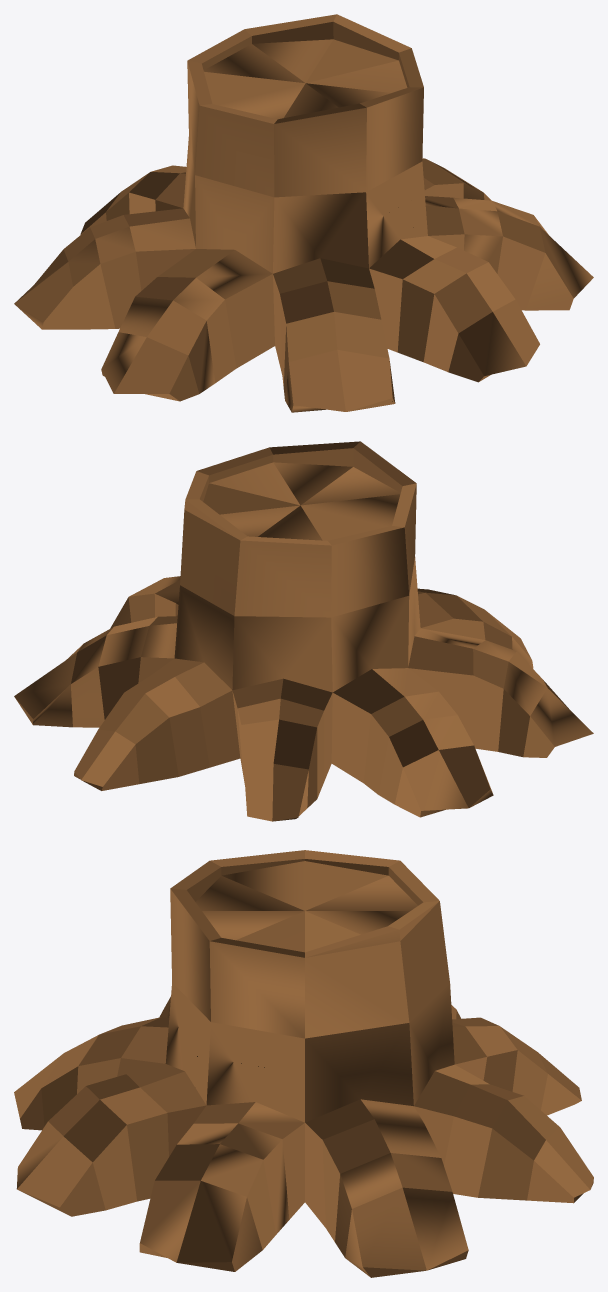
The model's file is Stumpf.fbx.
3 views of the same model, one above another, from view 1: azimuth 30°, elevation 25°; view 2: azimuth 150°, elevation 25°; view 3: azimuth 270°, elevation 25° (orthographic). The views are drawn at different scales.
Visible parts, largest first — view 1: Stumpf; view 2: Stumpf; view 3: Stumpf.
Part boxes in pixels (box(x1,y1,x2,y2)): Stumpf: box(14, 14, 593, 412); Stumpf: box(14, 441, 593, 821); Stumpf: box(14, 850, 593, 1277).
Bounding box in the file's own units: 454 × 218 × 430.
